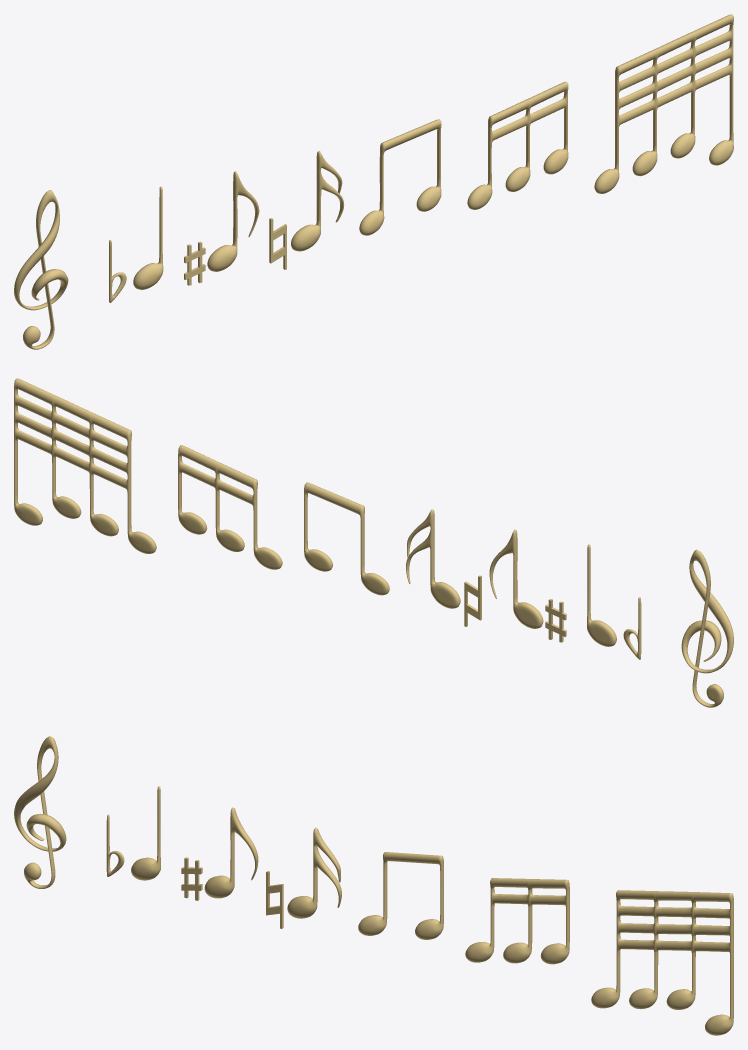
File: notes.glb
3 views of the same model, one above another, from view 1: azimuth 30°, elevation 25°; view 2: azimuth 150°, elevation 25°; view 3: azimuth 330°, elevation 25° (orthographic).
Parts seen in each view (by area): view 1: Plane.006, Plane.003, Plane, Plane.001, Plane.004, Plane.002, Plane.005, Cube, Cube.002; view 2: Plane.006, Plane.003, Plane, Plane.001, Plane.004, Plane.002, Plane.005, Cube, Cube.002; view 3: Plane.006, Plane.003, Plane, Plane.001, Plane.004, Plane.002, Plane.005, Cube, Cube.002.
Boxes of the visible parts, x1,y1,x2,y2 form: Plane.006: (594,14,733,193); Plane.003: (467,81,568,209); Plane: (14,190,68,349); Plane.001: (359,119,441,235); Plane.004: (291,151,343,251); Plane.002: (207,171,259,271); Plane.005: (133,186,163,289); Cube: (184,241,205,285); Cube.002: (269,218,286,269); Plane.006: (14,378,156,553); Plane.003: (178,445,282,569); Plane: (681,549,733,707); Plane.001: (304,482,389,595); Plane.004: (406,509,460,608); Plane.002: (489,529,543,628); Plane.005: (587,544,616,646); Cube: (545,599,566,642); Cube.002: (464,575,481,626); Plane.006: (591,890,733,1035); Plane.003: (465,878,569,964); Plane: (14,736,66,888); Plane.001: (358,852,443,939); Plane.004: (287,827,341,918); Plane.002: (204,807,258,898); Plane.005: (131,786,160,880); Cube: (181,857,202,900); Cube.002: (266,871,283,928).
Size of the model in its own units: 772 by 167 by 25.66.
